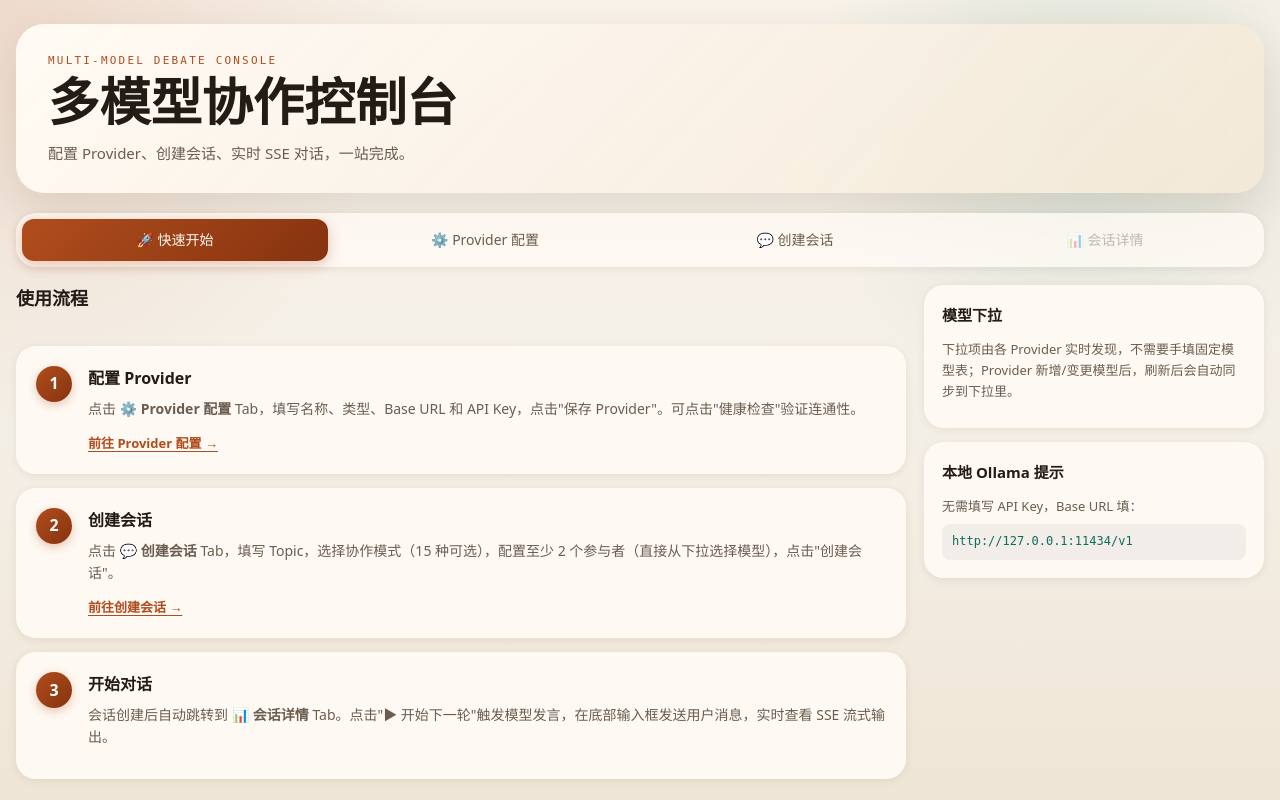
Test: App provider auth options › shows auth method choices for codex and claude providers
Click the button "⚙️ Provider 配置" at (485, 240), box [332, 219, 638, 261]
(page scrolled)
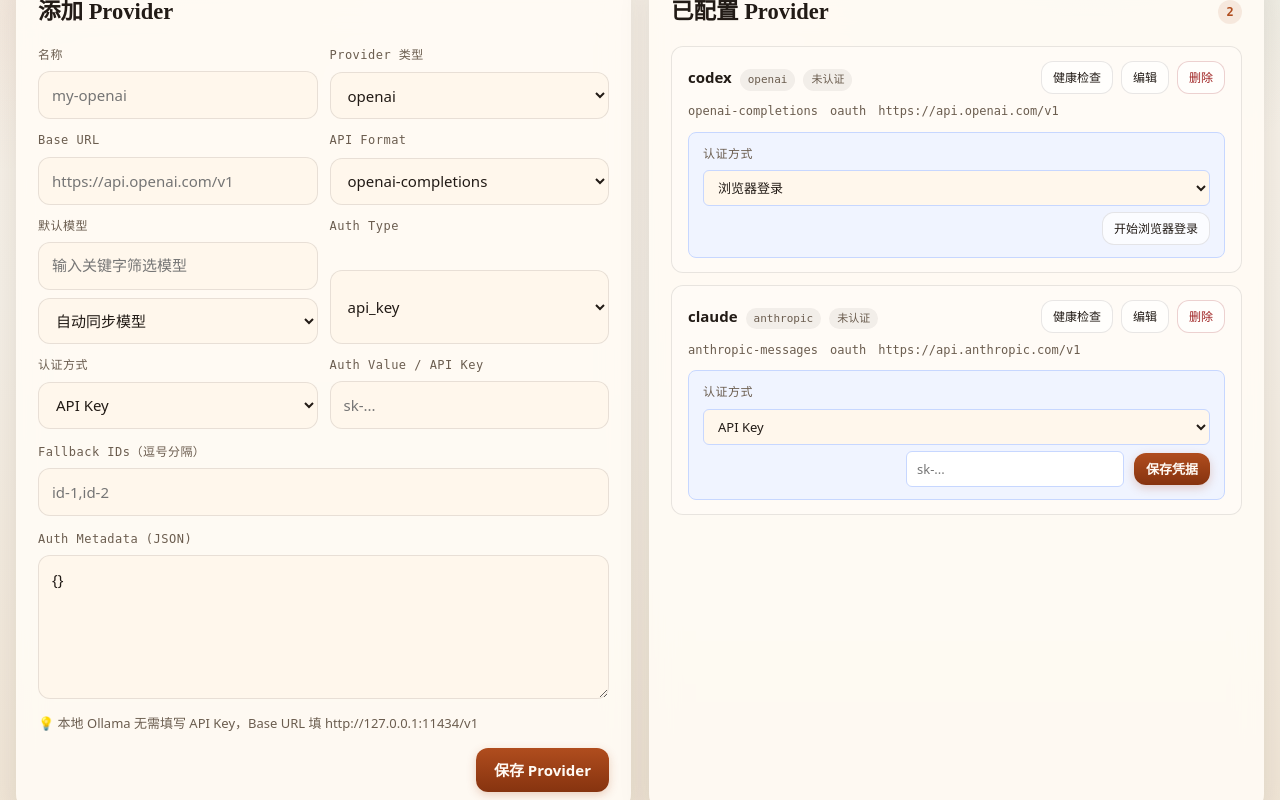
Result: the element that starts with "codex" shows "认证方式" at [703, 147, 753, 161]
Result: the element that starts with "codex" shows "浏览器登录" at [1102, 212, 1210, 245]
Result: the element that starts with "claude" shows "认证方式" at [703, 385, 753, 399]
